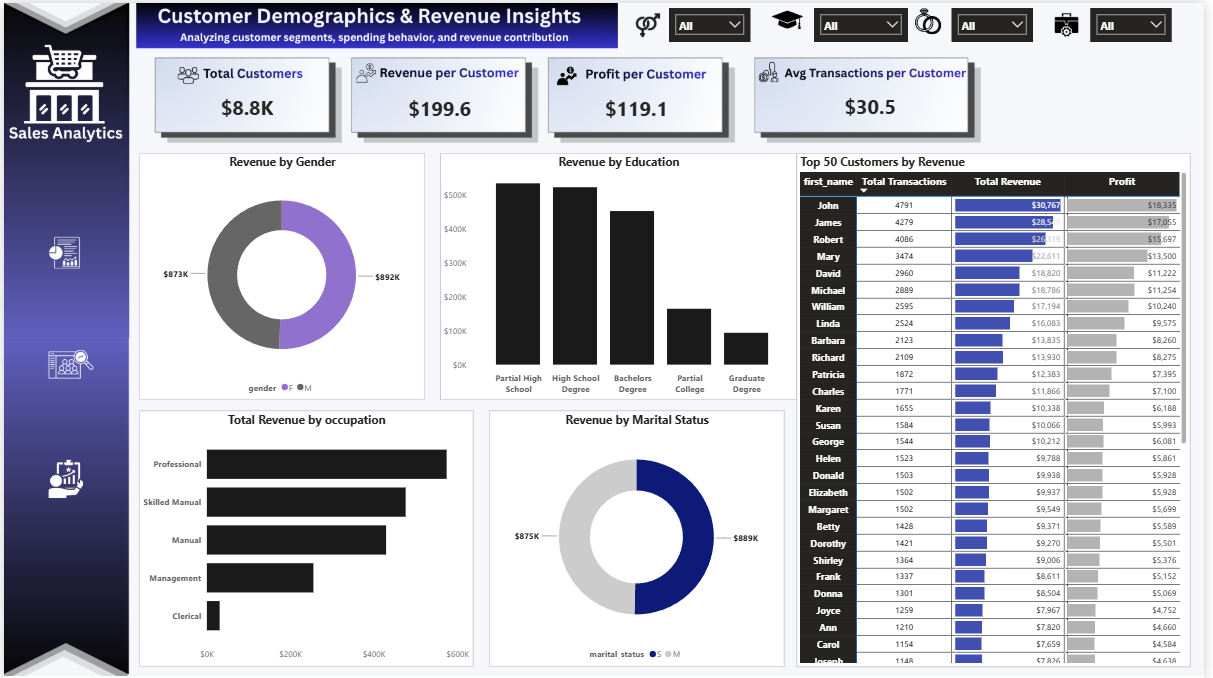

Layout of this report page (visuals, bound fields, positions):
{"tool":"powerbi","page":{"name":"CUSTOMER DEMOGRAPHICS","canvas":[1920,1080],"ordinal":1},"visuals":[{"type":"cardVisual","fields":{"Data":["Stores.Total Customers"]},"box":[264,124,250,82],"z":0},{"type":"cardVisual","fields":{"Data":["Customers.Revenue per Customer"]},"box":[570,128,254,76],"z":1000},{"type":"cardVisual","fields":{"Data":["Customers.Avg Transactions per Customer"]},"box":[1256,128,260,70],"z":2000},{"type":"cardVisual","fields":{"Data":["Customers.Profit per Customer"]},"box":[886,134,252,64],"z":3000},{"type":"slicer","fields":{"Values":["Customers.education"]},"box":[1296,8,150,54],"z":4000},{"type":"slicer","fields":{"Values":["Customers.marital_status"]},"box":[1516,8,130,54],"z":5000},{"type":"slicer","fields":{"Values":["Customers.occupation"]},"box":[1738,8,130,54],"z":6000},{"type":"slicer","fields":{"Values":["Customers.gender"]},"box":[1064,8,130,54],"z":7000},{"type":"donutChart","title":"Revenue by Gender","fields":{"Category":["Customers.gender"],"Y":["Stores.Total Revenue"]},"box":[215,240,457.5,395],"z":8000},{"type":"donutChart","title":"Revenue by Marital Status","fields":{"Y":["Stores.Total Revenue"],"Category":["Customers.marital_status"]},"box":[775,652.5,472.5,410],"z":9000},{"type":"clusteredColumnChart","title":"Revenue by Education","fields":{"Category":["Customers.education"],"Y":["Stores.Total Revenue"]},"box":[697.5,240,570,395],"z":10000},{"type":"pivotTable","title":"Top 50 Customers by Revenue","fields":{"Rows":["Customers.first_name"],"Values":["Calender.Total Transactions","Stores.Total Revenue","Calender.Profit"]},"box":[1267.5,240,630,822.5],"z":11000},{"type":"clusteredBarChart","fields":{"Y":["Stores.Total Revenue"],"Category":["Customers.occupation"]},"box":[215,652.5,535,410],"z":12000}]}

Visuals, with their boxes in screenshot pixels (x1, y1, x2, y2), scaled from the page's 1920x1080 canvas onto the 1213x678 screenshot:
cardVisual - Stores.Total Customers: 167:78:325:129
cardVisual - Customers.Revenue per Customer: 360:80:521:128
cardVisual - Customers.Avg Transactions per Customer: 794:80:958:124
cardVisual - Customers.Profit per Customer: 560:84:719:124
slicer - Customers.education: 819:5:914:39
slicer - Customers.marital_status: 958:5:1040:39
slicer - Customers.occupation: 1098:5:1180:39
slicer - Customers.gender: 672:5:754:39
"Revenue by Gender" donutChart: 136:151:425:399
"Revenue by Marital Status" donutChart: 490:410:788:667
"Revenue by Education" clusteredColumnChart: 441:151:801:399
"Top 50 Customers by Revenue" pivotTable: 801:151:1199:667
clusteredBarChart - Stores.Total Revenue x Customers.occupation: 136:410:474:667
